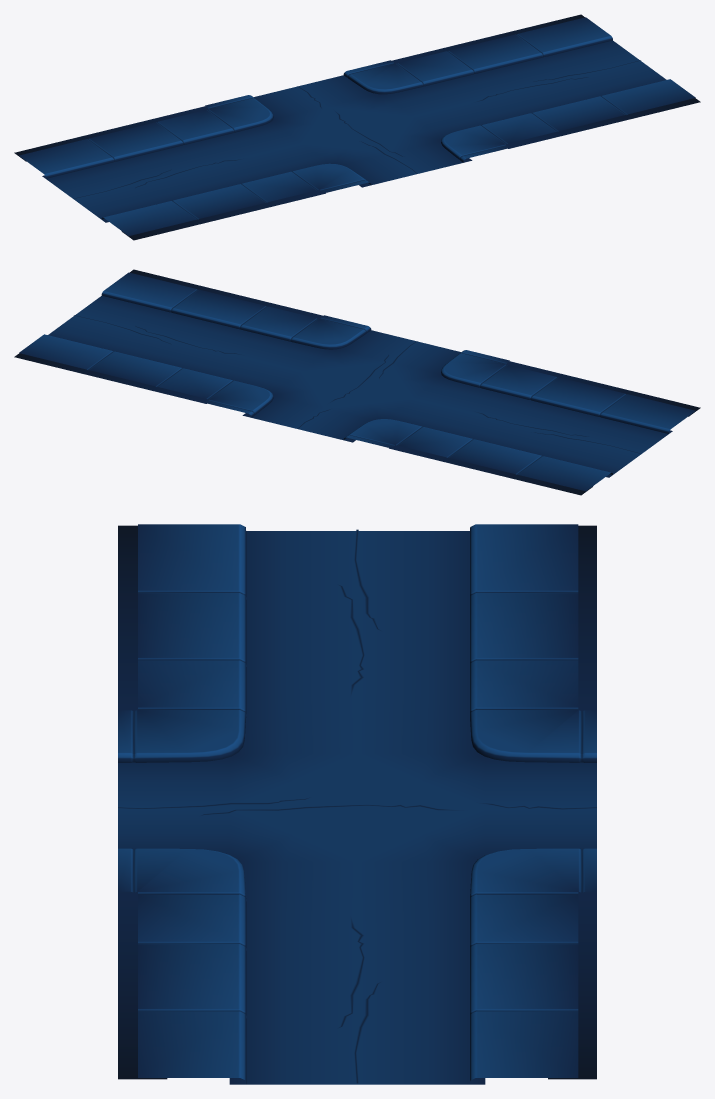
The model's file is Road04Night.fbx.
3 views of the same model, one above another, from view 1: azimuth 30°, elevation 25°; view 2: azimuth 150°, elevation 25°; view 3: azimuth 270°, elevation 25° (orthographic). The views are drawn at different scales.
Visible parts, largest first — view 1: Road04Night; view 2: Road04Night; view 3: Road04Night.
Boxes of the visible parts, x1,y1,x2,y2 form: Road04Night: (14, 14, 700, 240); Road04Night: (14, 269, 700, 495); Road04Night: (118, 524, 596, 1084).
Bounding box in the file's own units: 2461 × 14.58 × 900.
